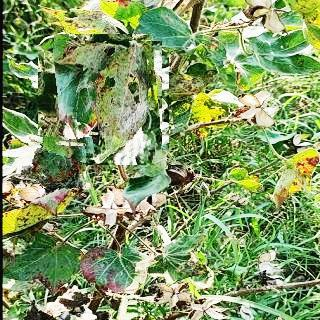blight: (45, 41, 162, 159), (22, 137, 86, 188)
